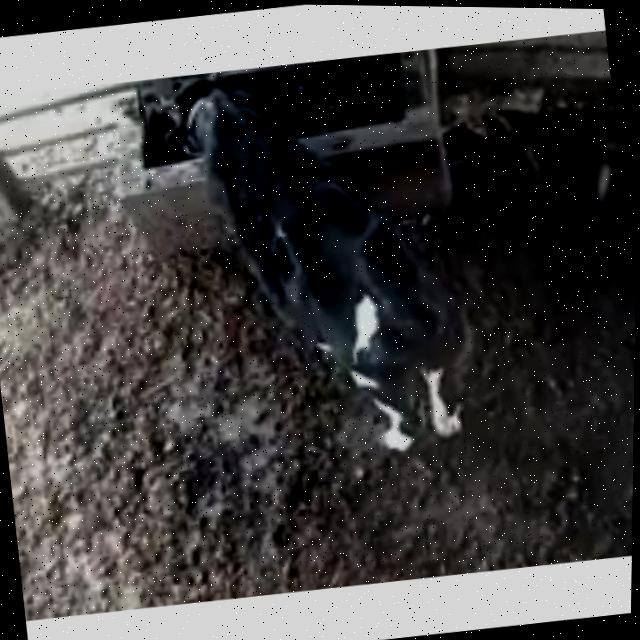drink: (129, 60, 314, 213)
